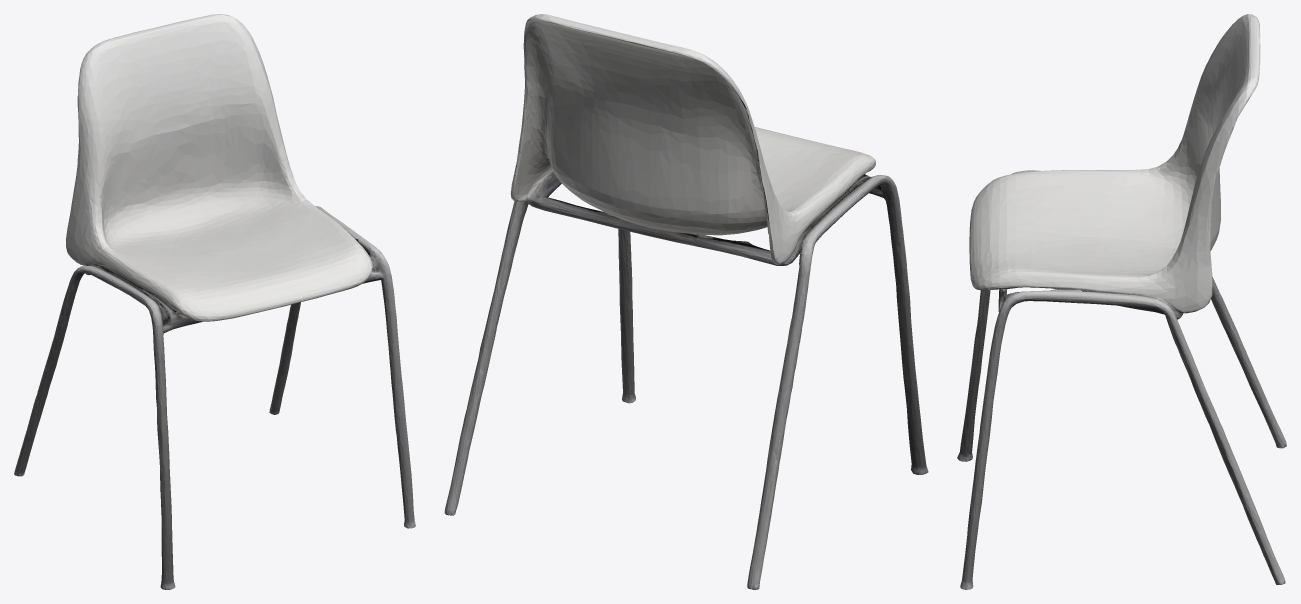
3 views of the same model, side by side, from view 1: azimuth 30°, elevation 25°; view 2: azimuth 150°, elevation 25°; view 3: azimuth 270°, elevation 25° (orthographic). The views are drawn at different scales.
Parts seen in each view (by area): view 1: world; view 2: world; view 3: world.
Part boxes in pixels (x1,y1,x2,y2): world: (14, 14, 415, 589); world: (444, 14, 928, 589); world: (957, 14, 1286, 589).
Size of the model in its own units: 0.6361 by 0.9993 by 0.6262.
Materials: 1 (1 with a texture image).
